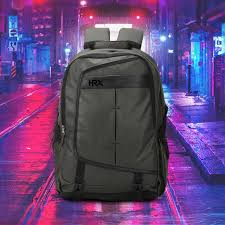backpack: (52, 28, 169, 201)
